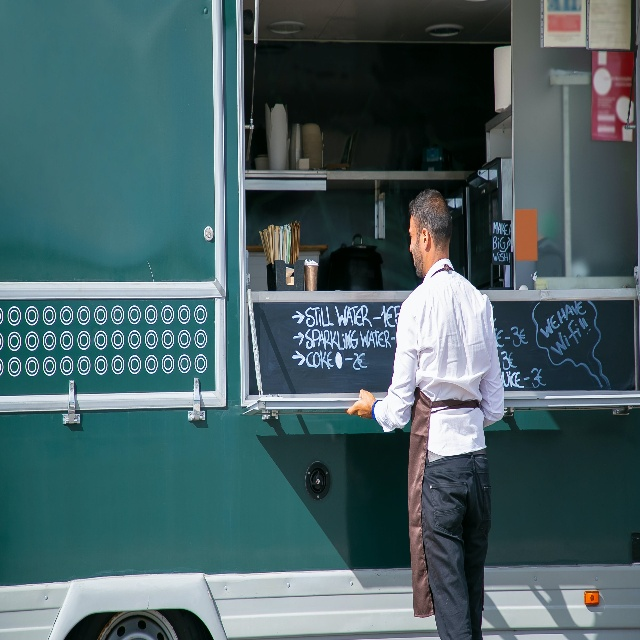Sin_guantes: (345, 389, 377, 419)
